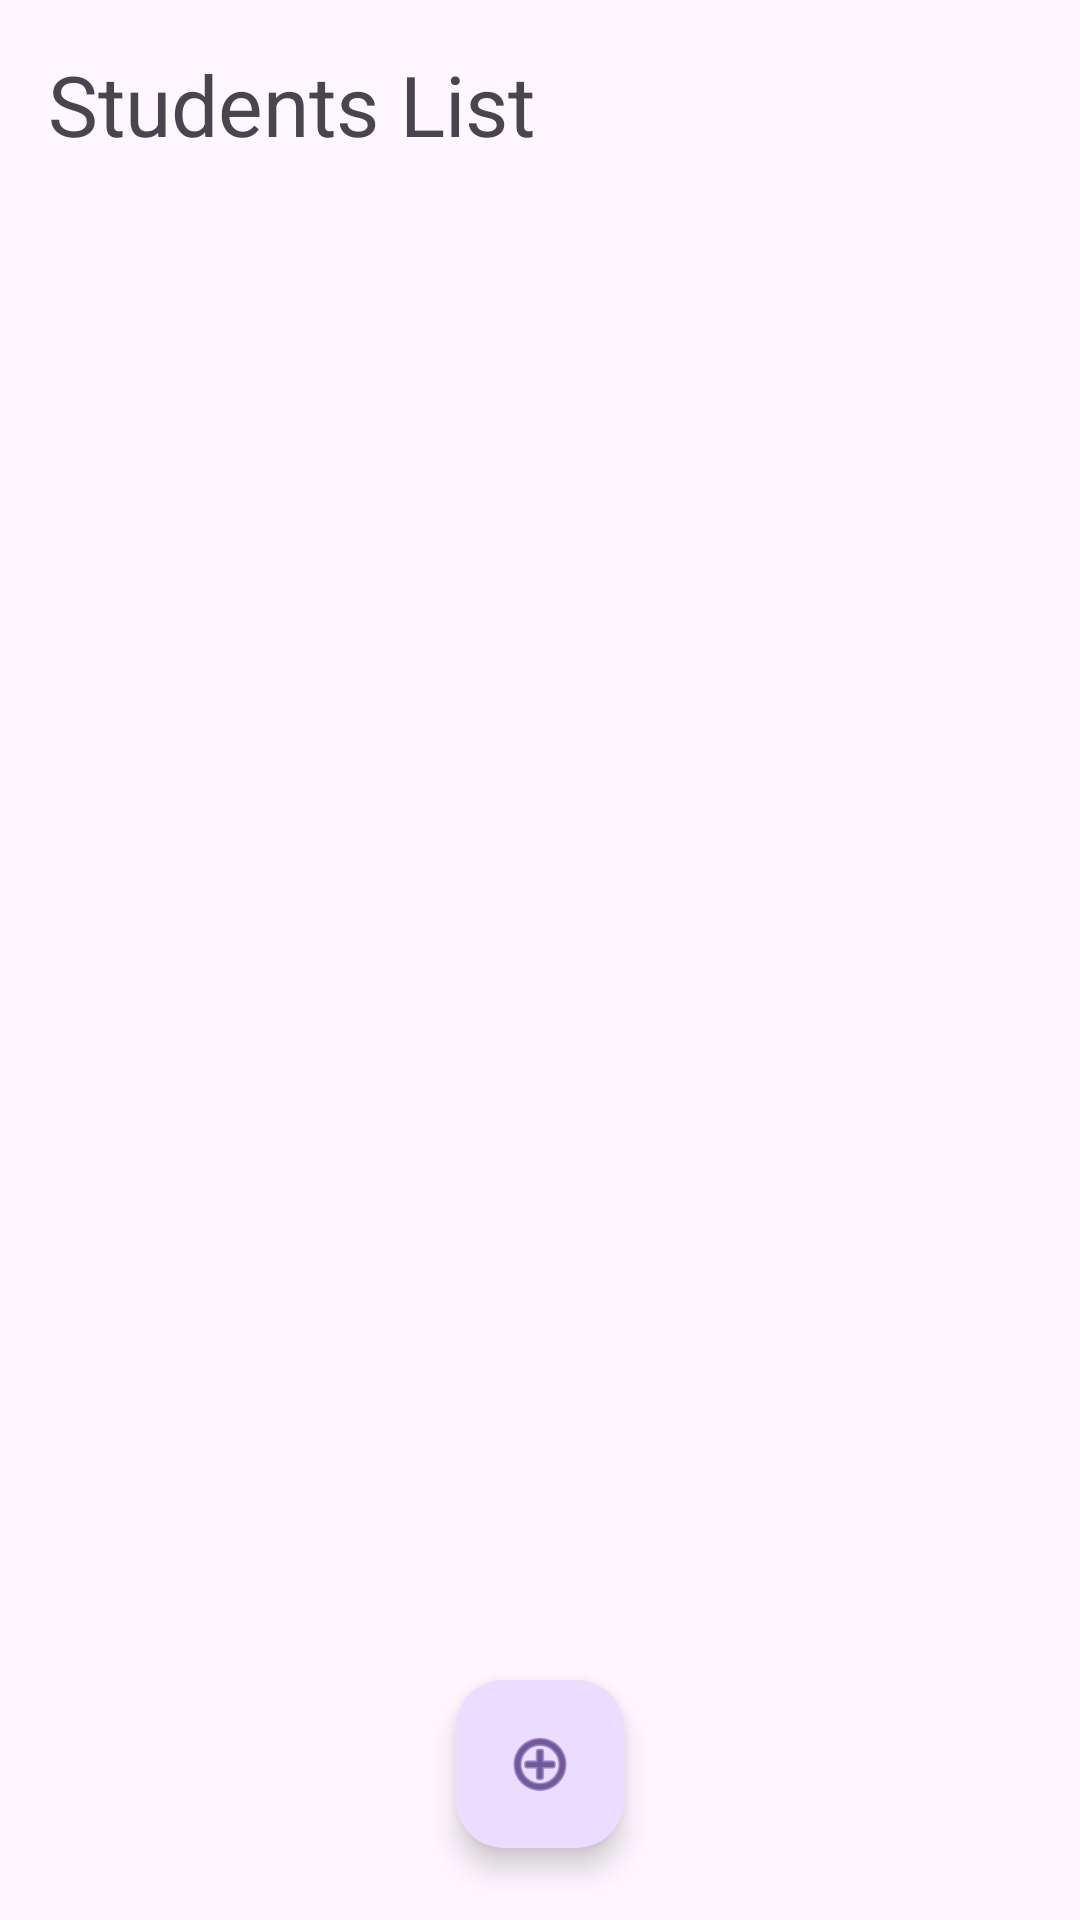

Where to tap for icons on this 1080*1920 app screen, as point (x, y):
add: point (540, 1764)
